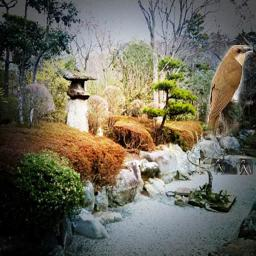Cuckoo: (199, 45, 253, 175)
